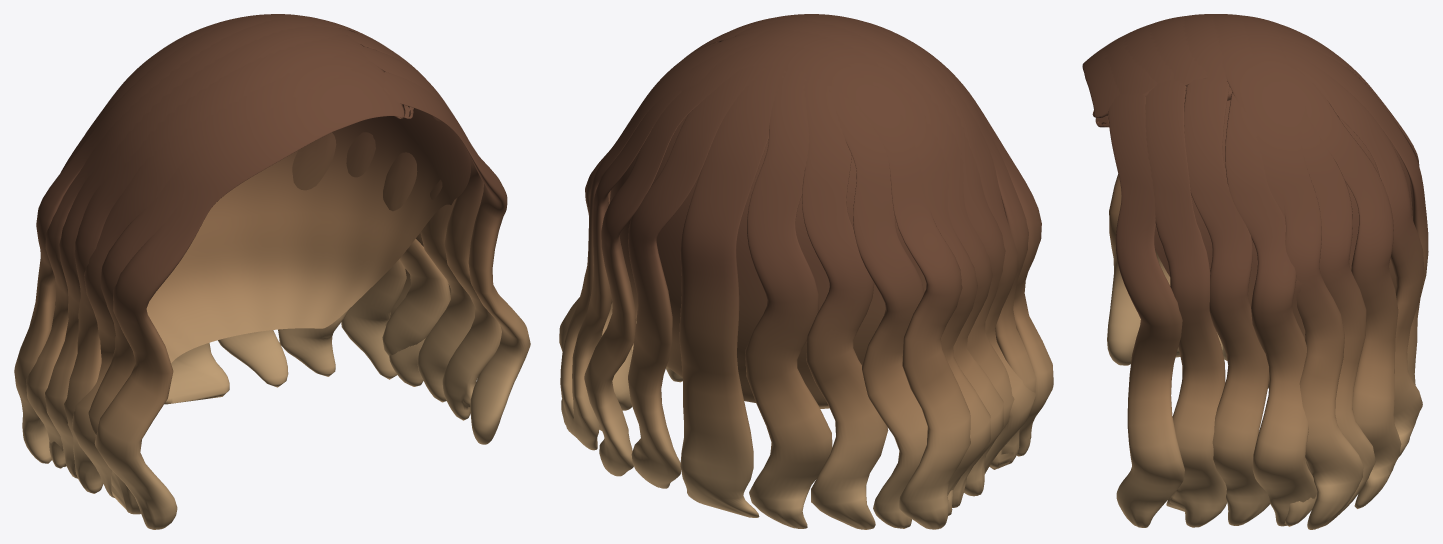
The model's file is curls-beanie-ombre.glb.
3 views of the same model, side by side, from view 1: azimuth 30°, elevation 25°; view 2: azimuth 150°, elevation 25°; view 3: azimuth 270°, elevation 25° (orthographic). The views are drawn at different scales.
Parts seen in each view (by area): view 1: 226 hair / Hair / sculpted 0.001, 226 hair / Hair / sculpted 1.002, 226 hair / Hair / sculpted 1.001, 226 hair / Hair / sculpted 2.001; view 2: 226 hair / Hair / sculpted 0.001, 226 hair / Hair / sculpted 2.001, 226 hair / Hair / sculpted 1.002, 226 hair / Hair / sculpted 1.001; view 3: 226 hair / Hair / sculpted 1.002, 226 hair / Hair / sculpted 2.001, 226 hair / Hair / sculpted 0.001, 226 hair / Hair / sculpted 1.001.
Part boxes in pixels (x1=…): 226 hair / Hair / sculpted 0.001: x1=14, y1=14, x2=474, y2=529; 226 hair / Hair / sculpted 1.002: x1=45, y1=14, x2=530, y2=514; 226 hair / Hair / sculpted 1.001: x1=146, y1=33, x2=470, y2=362; 226 hair / Hair / sculpted 2.001: x1=26, y1=15, x2=501, y2=497; 226 hair / Hair / sculpted 0.001: x1=584, y1=15, x2=1053, y2=529; 226 hair / Hair / sculpted 2.001: x1=560, y1=14, x2=1035, y2=528; 226 hair / Hair / sculpted 1.002: x1=559, y1=14, x2=1036, y2=529; 226 hair / Hair / sculpted 1.001: x1=609, y1=42, x2=926, y2=408; 226 hair / Hair / sculpted 1.002: x1=1103, y1=14, x2=1424, y2=527; 226 hair / Hair / sculpted 2.001: x1=1123, y1=14, x2=1428, y2=529; 226 hair / Hair / sculpted 0.001: x1=1082, y1=15, x2=1419, y2=525; 226 hair / Hair / sculpted 1.001: x1=1154, y1=69, x2=1412, y2=388.
Bounding box in the file's own units: 0.9483 × 0.8974 × 0.6709.
